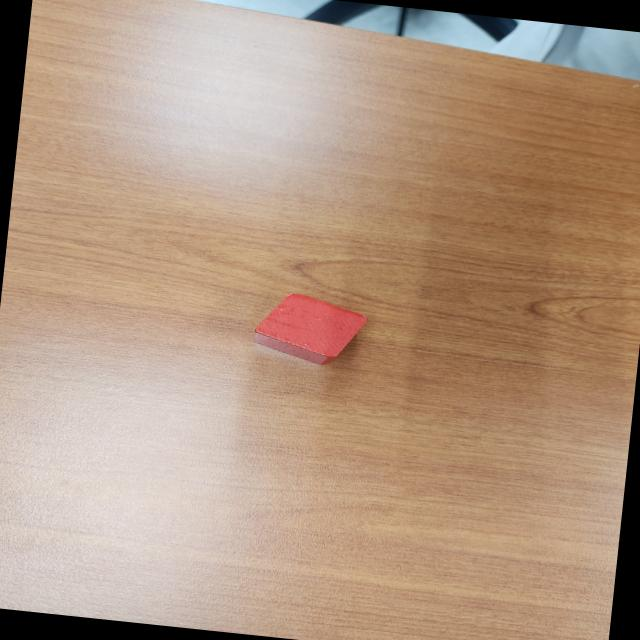red: (248, 290, 370, 369)
